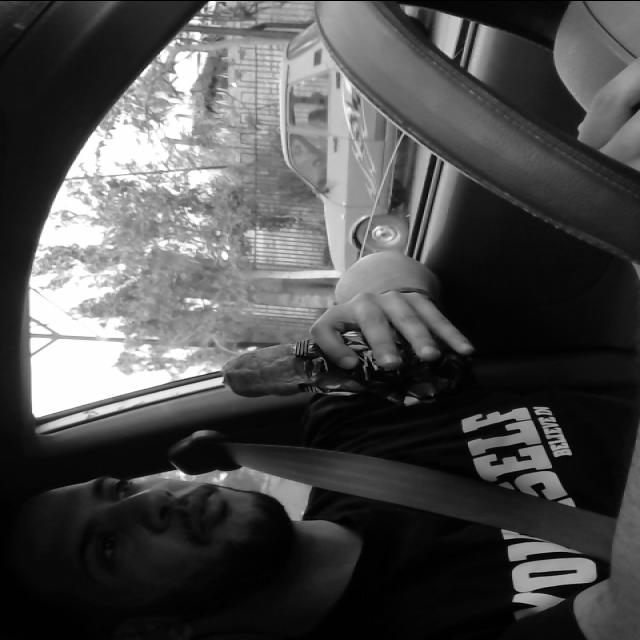eating: (220, 332, 464, 404)
